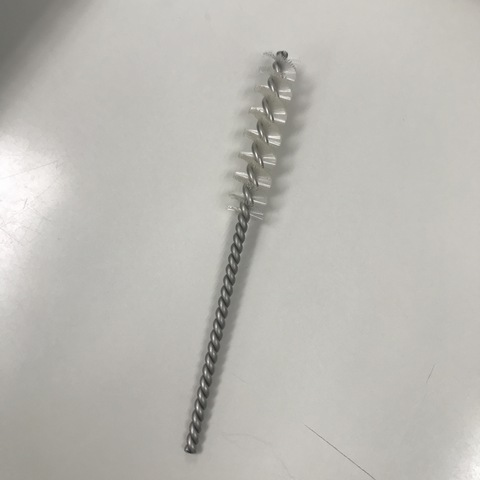Twist Brush-B: (181, 47, 305, 456)
